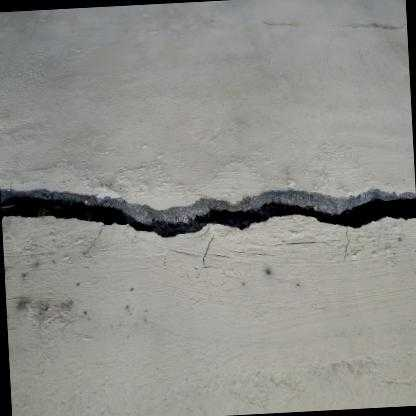crack: (0, 185, 416, 235)
